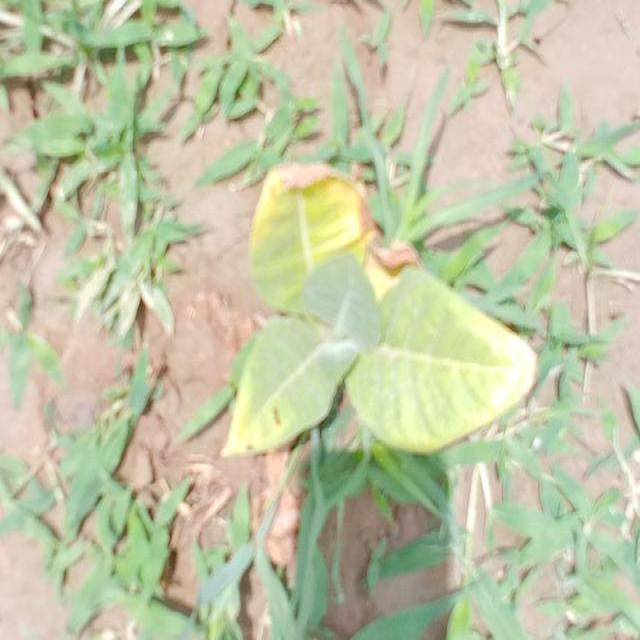crop: (231, 170, 527, 444)
